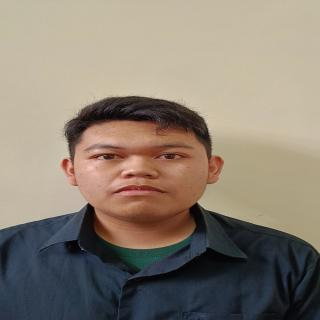Marah: (65, 106, 225, 217)
